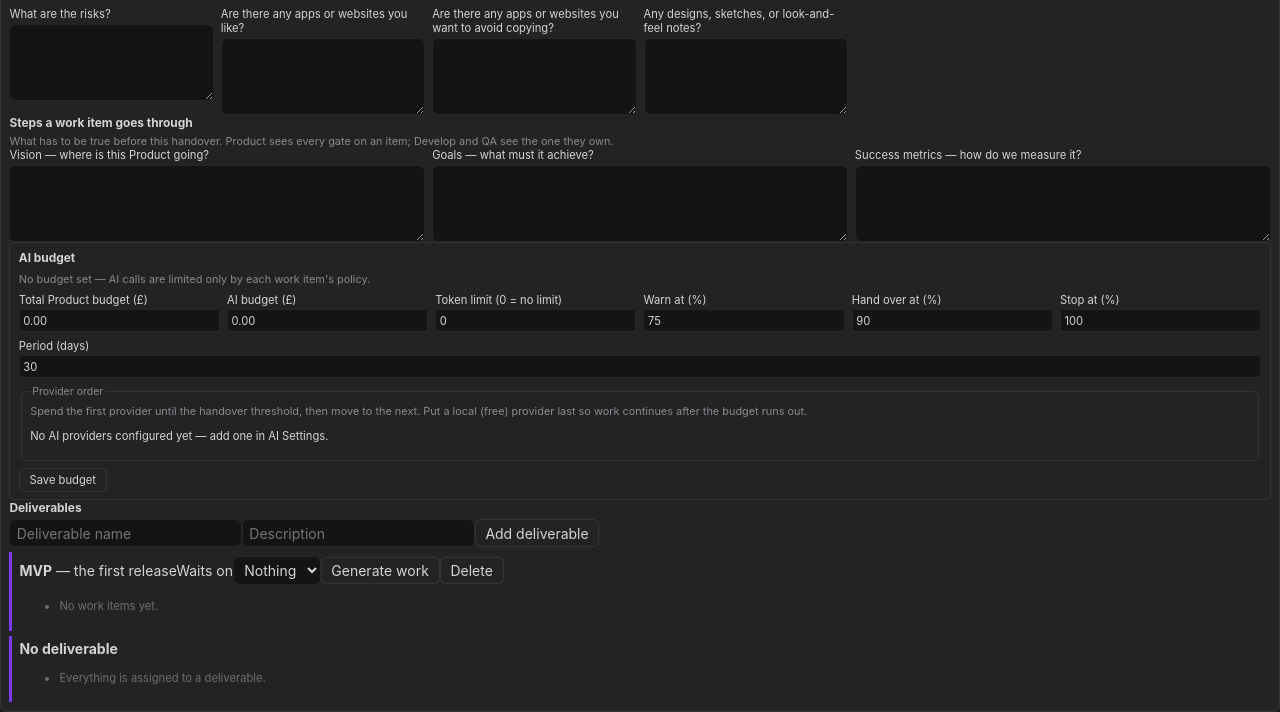
it: ProductStrategy — generating the work for a Deliverable › surfaces a policy denial instead of failing silently
(page scrolled)
Click the button with aria-label "Generate work for MVP": (380, 570) [320,557,440,584]
(page scrolled)
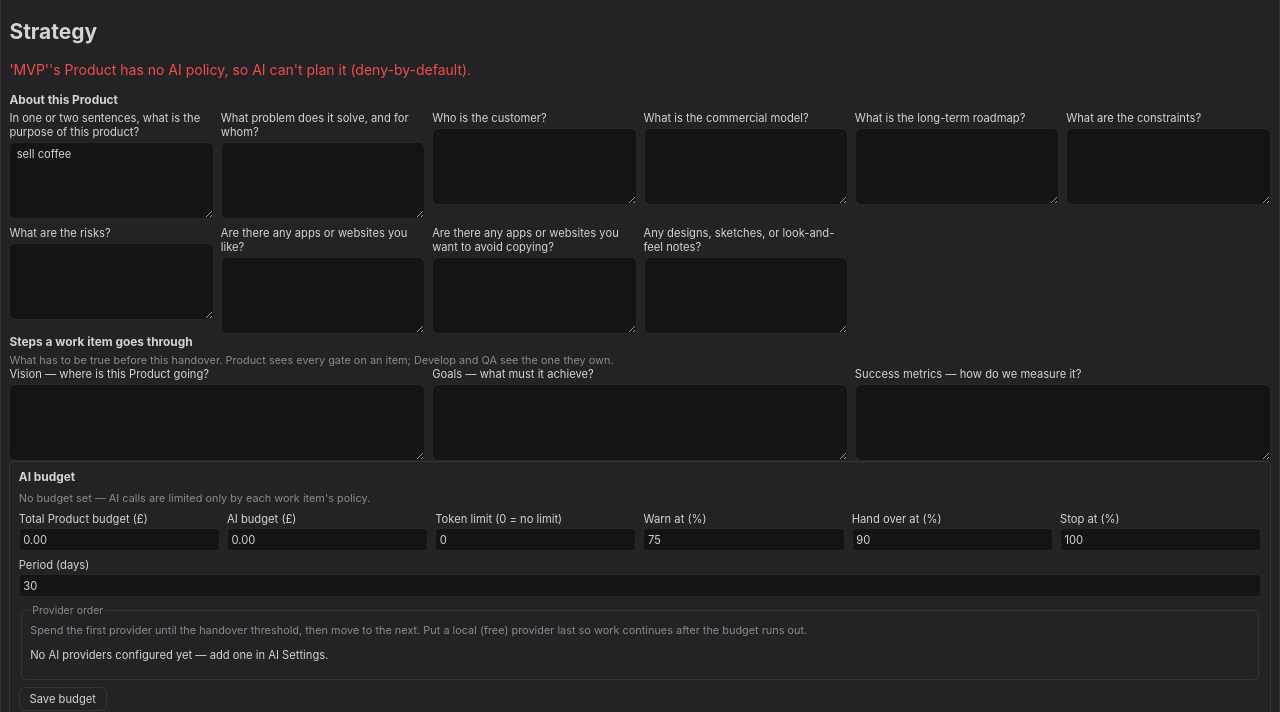
expect the message shows "deny-by-default": met, box [9,61,471,78]
